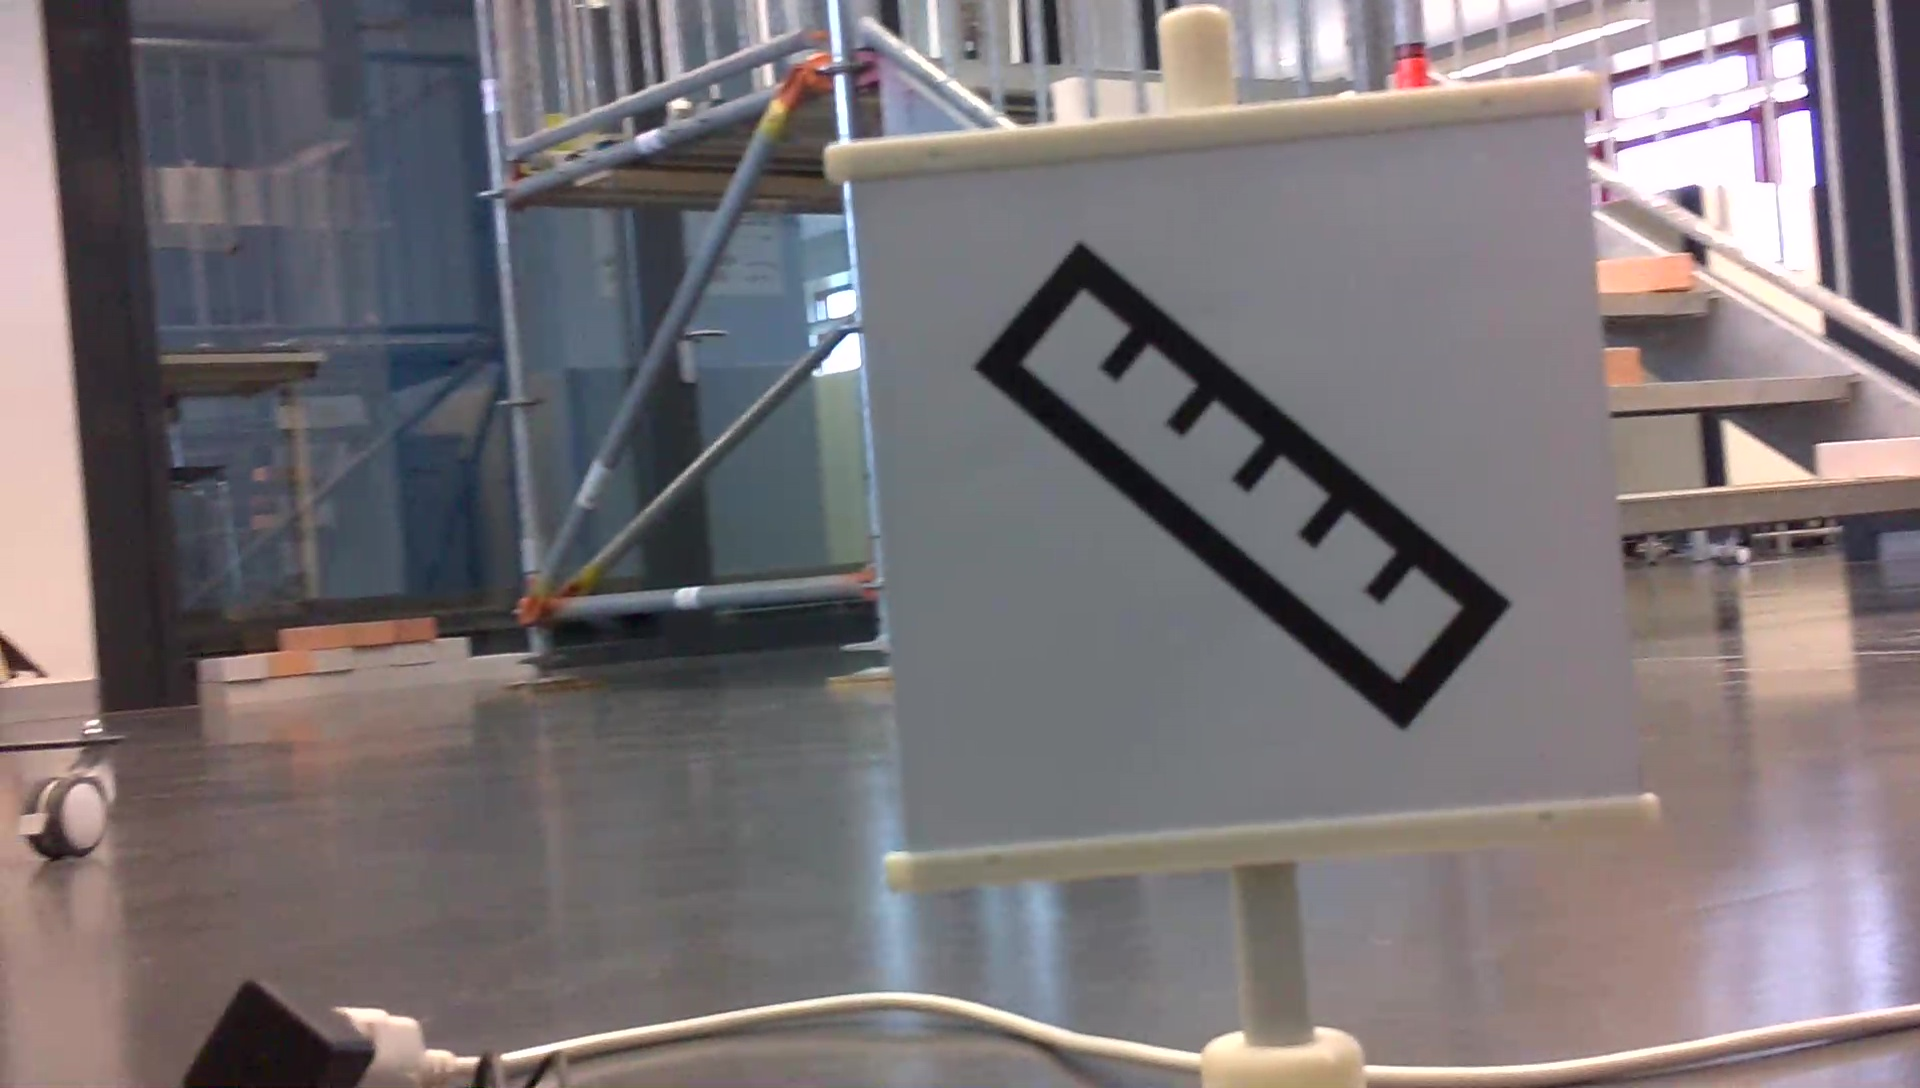brick: (1815, 430, 1920, 481), (1596, 253, 1704, 291)
ruler: (973, 237, 1516, 731)
